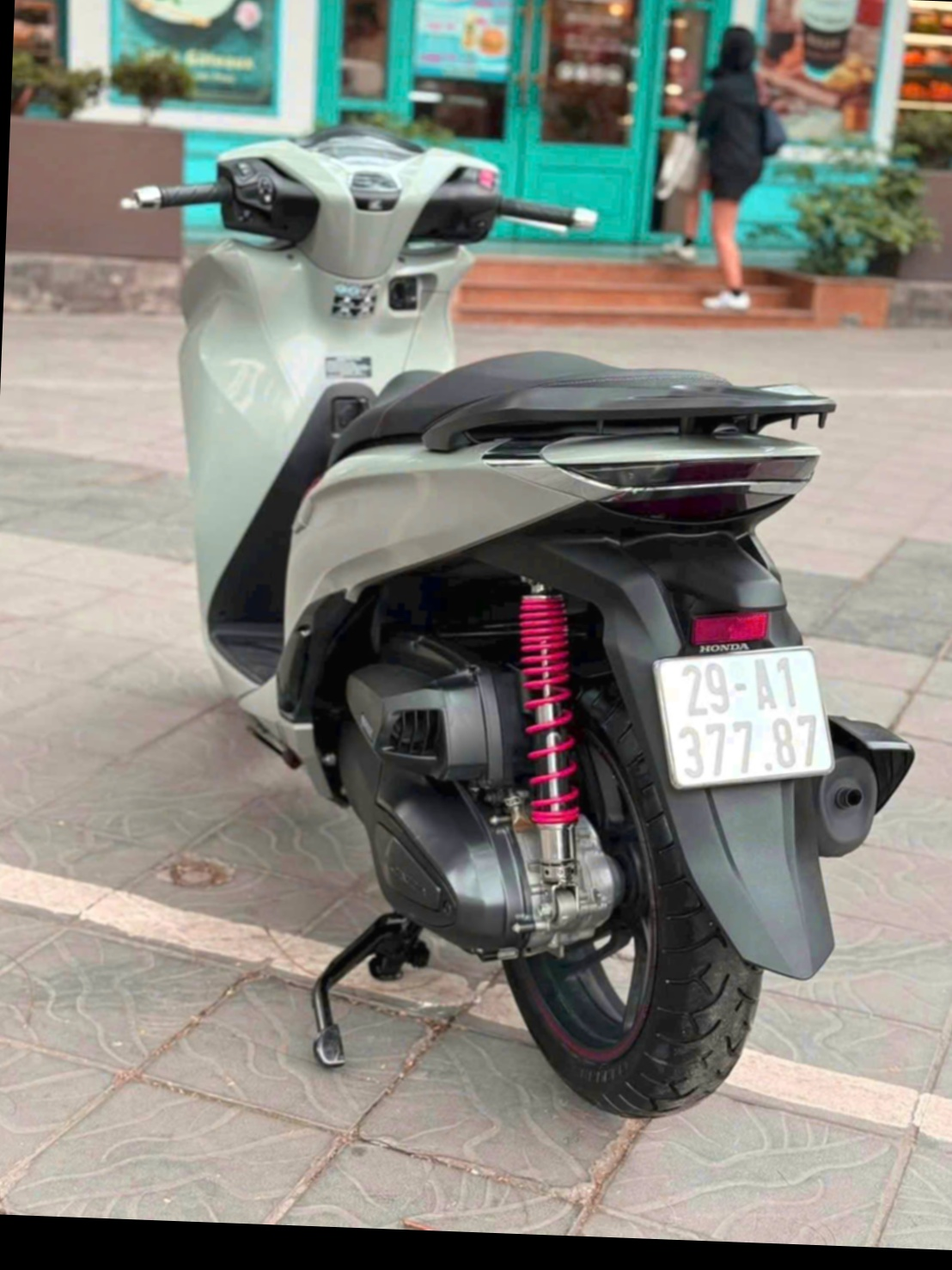Bien-so: (624, 648, 831, 816)
